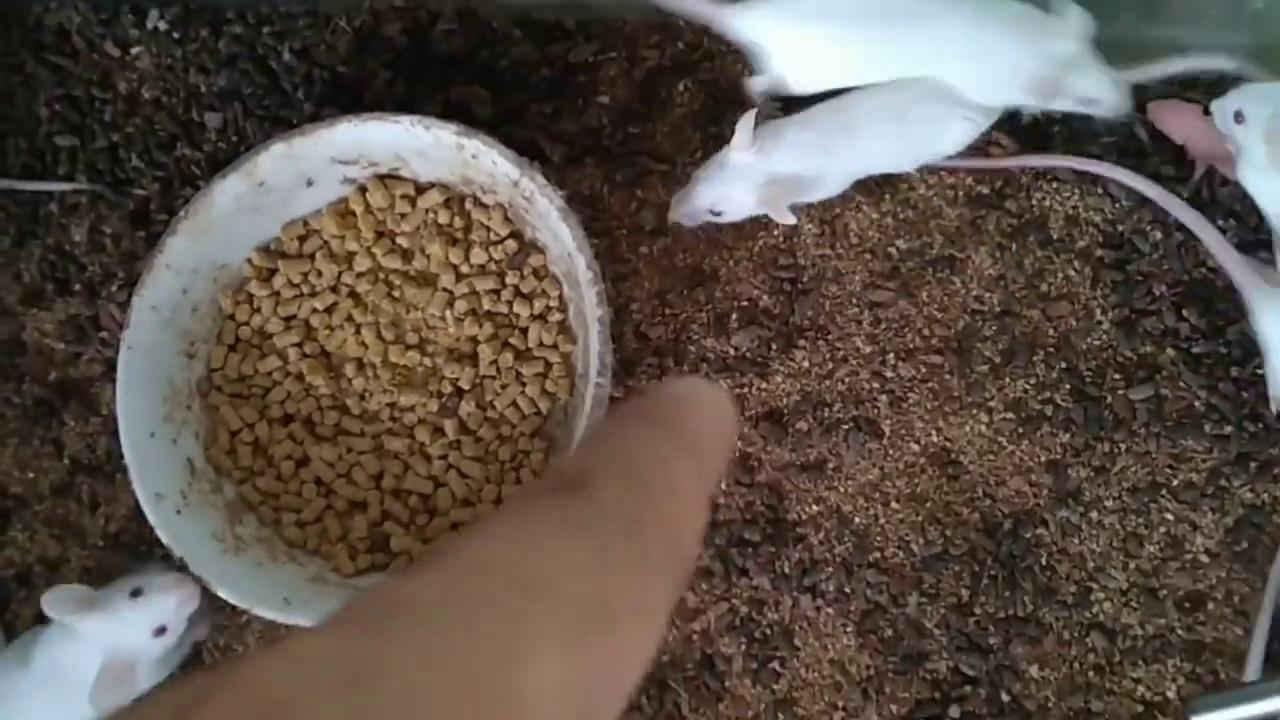rat: (656, 0, 1136, 115), (670, 90, 1005, 227), (0, 565, 213, 720), (1212, 82, 1280, 238)
